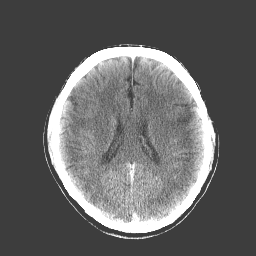ischemic: (162, 112, 195, 126), (194, 143, 199, 148)
